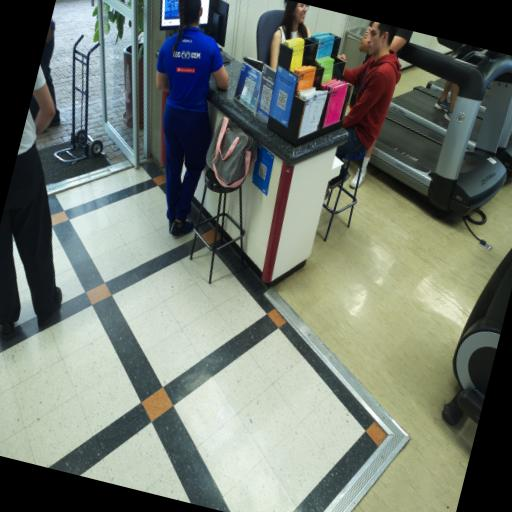person: (156, 0, 229, 235), (0, 68, 62, 340), (337, 22, 401, 155), (270, 0, 311, 69), (40, 20, 60, 126), (350, 139, 376, 188), (435, 81, 459, 120)
